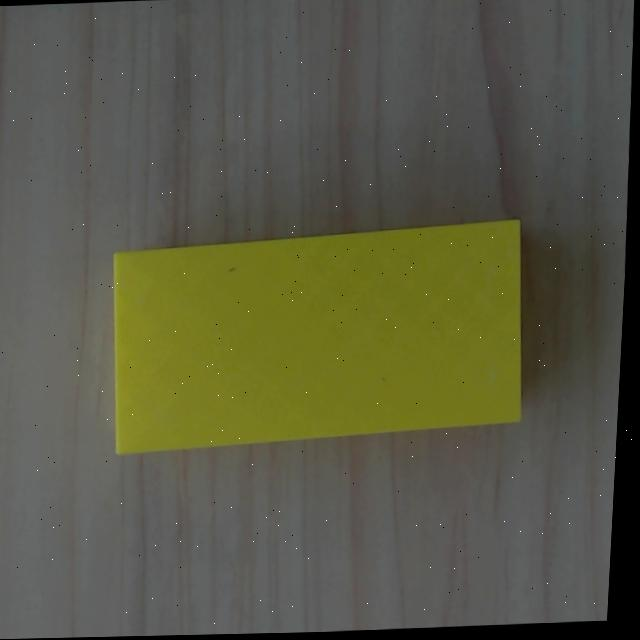Balok-Kuning-1005025: (99, 219, 534, 454)
